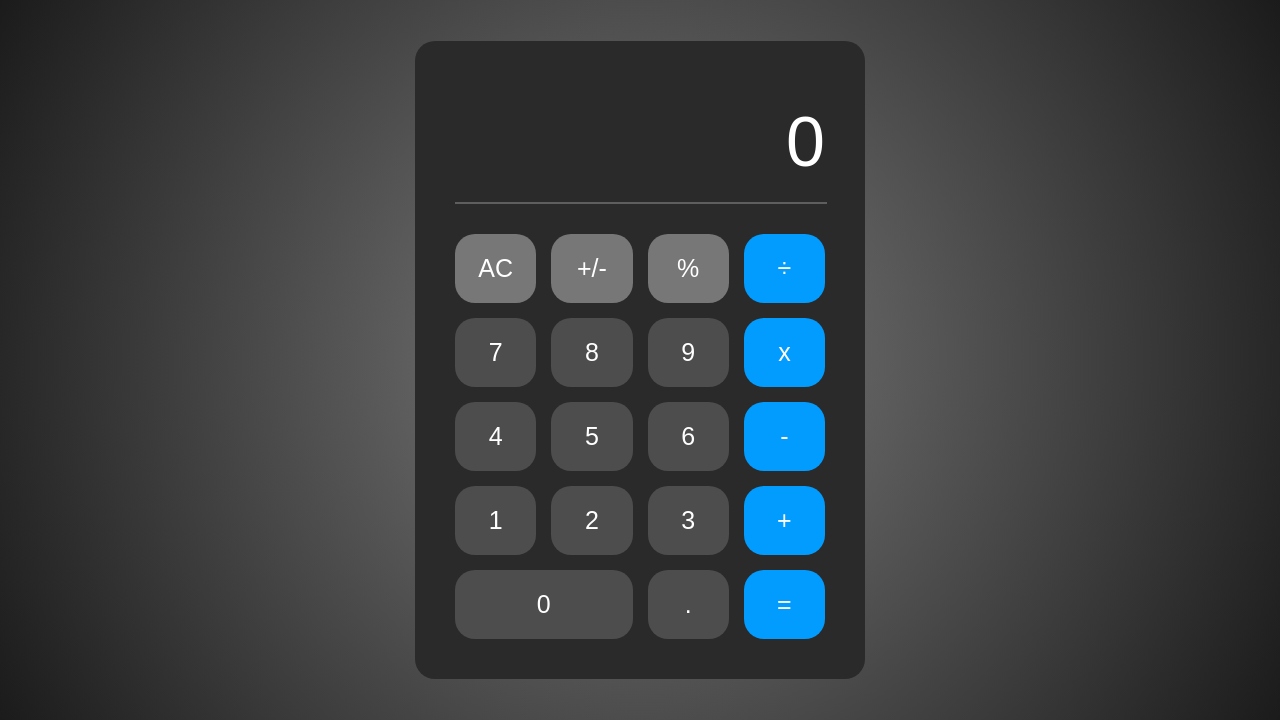
Componente calculadora › Evita colocar el cero a la izquierda
# Simular el clic en el botón '1'
Step 1. Click the button "1" → (496, 520), box [455,486,536,555]
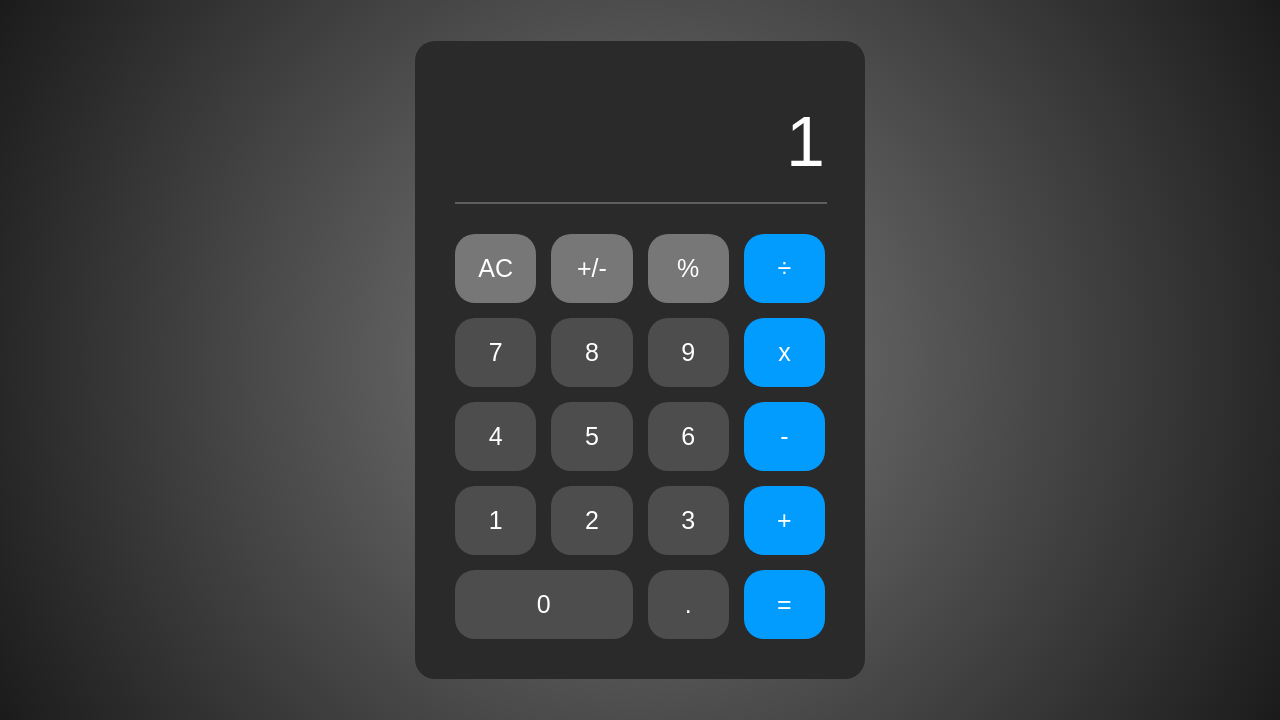
Expected: the text with test id "display" reads "1", [786,103,825,181]
